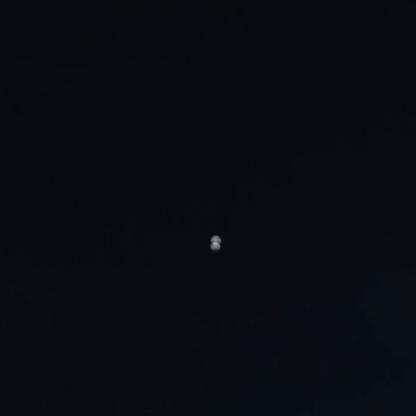ball: (203, 229, 230, 244), (206, 240, 228, 257)
